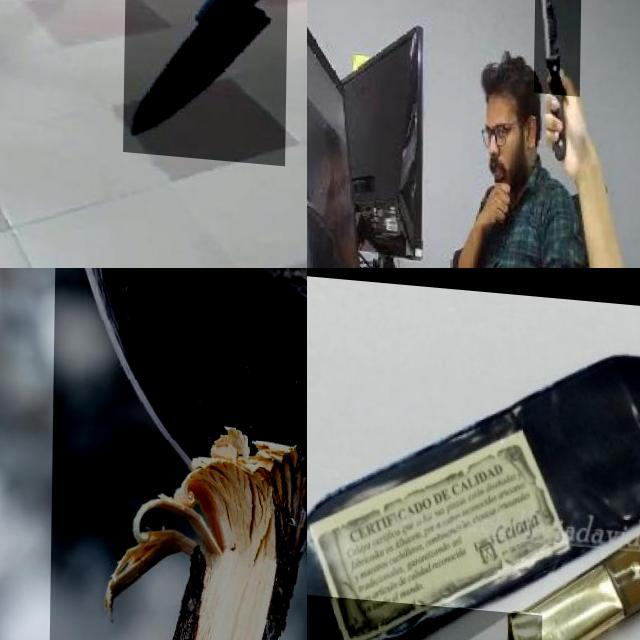-: (50, 268, 307, 640), (124, 0, 288, 160), (535, 0, 582, 87)
